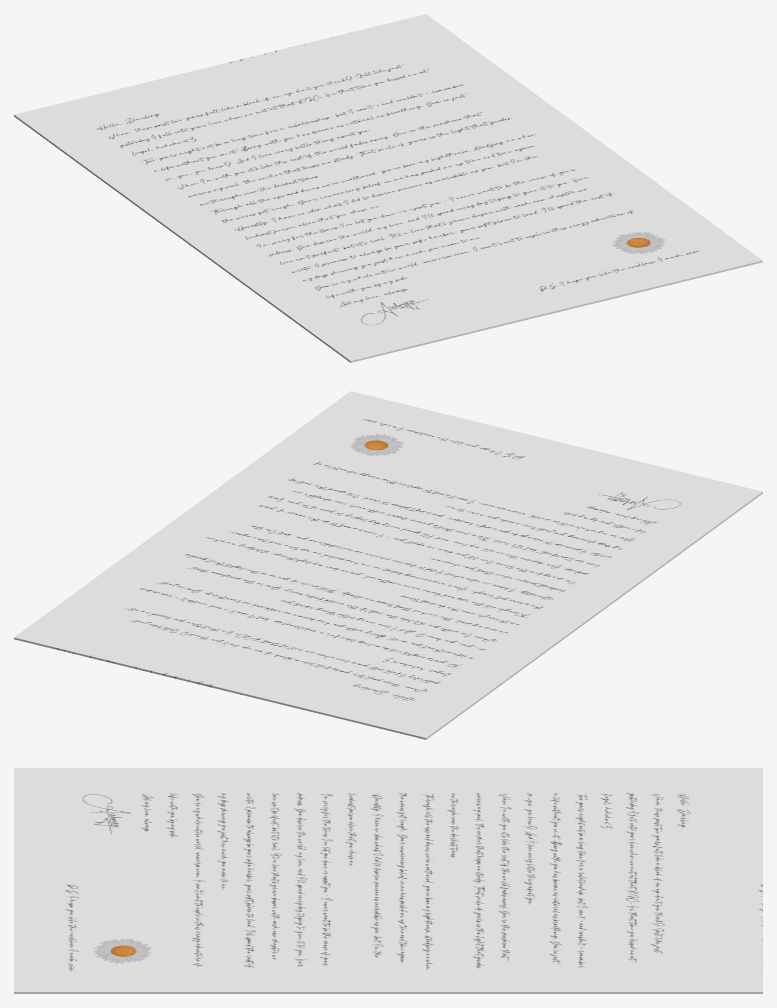
Rendered from letter.glb.
The picture shows the model from 3 angles, top to bottom: view 1: azimuth 30°, elevation 25°; view 2: azimuth 150°, elevation 25°; view 3: azimuth 270°, elevation 25°; orthographic projection. The views are drawn at different scales.
Parts seen in each view (by area): view 1: Plane; view 2: Plane; view 3: Plane.
Boxes of the visible parts, left/top/right/bottom form: Plane: left=14, top=14, right=762, bottom=362; Plane: left=14, top=391, right=762, bottom=739; Plane: left=14, top=768, right=762, bottom=993.
Size of the model in its own units: 1 by 0.00421 by 1.42.
Materials: 1 (1 with a texture image).
